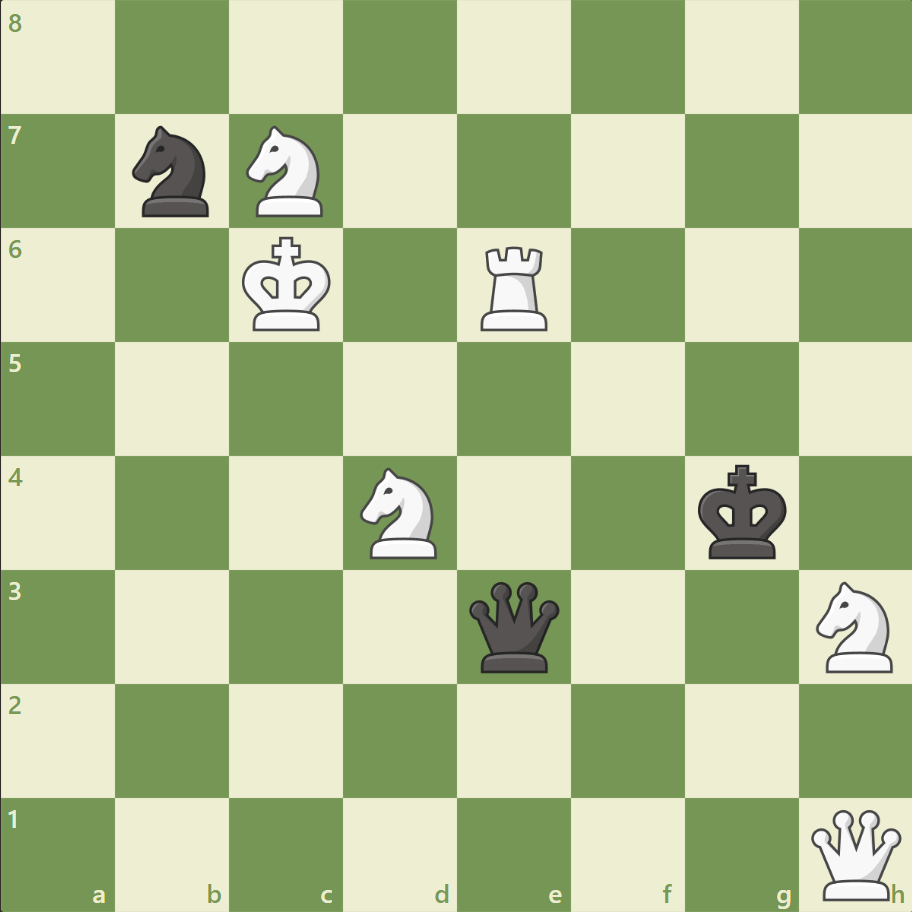K: (238, 231, 338, 339)
N: (351, 461, 449, 564), (238, 121, 335, 223), (806, 575, 903, 677)
Q: (805, 804, 904, 903)
R: (473, 239, 556, 336)
k: (692, 458, 792, 566)
n: (124, 121, 222, 223)
q: (464, 576, 563, 676)
